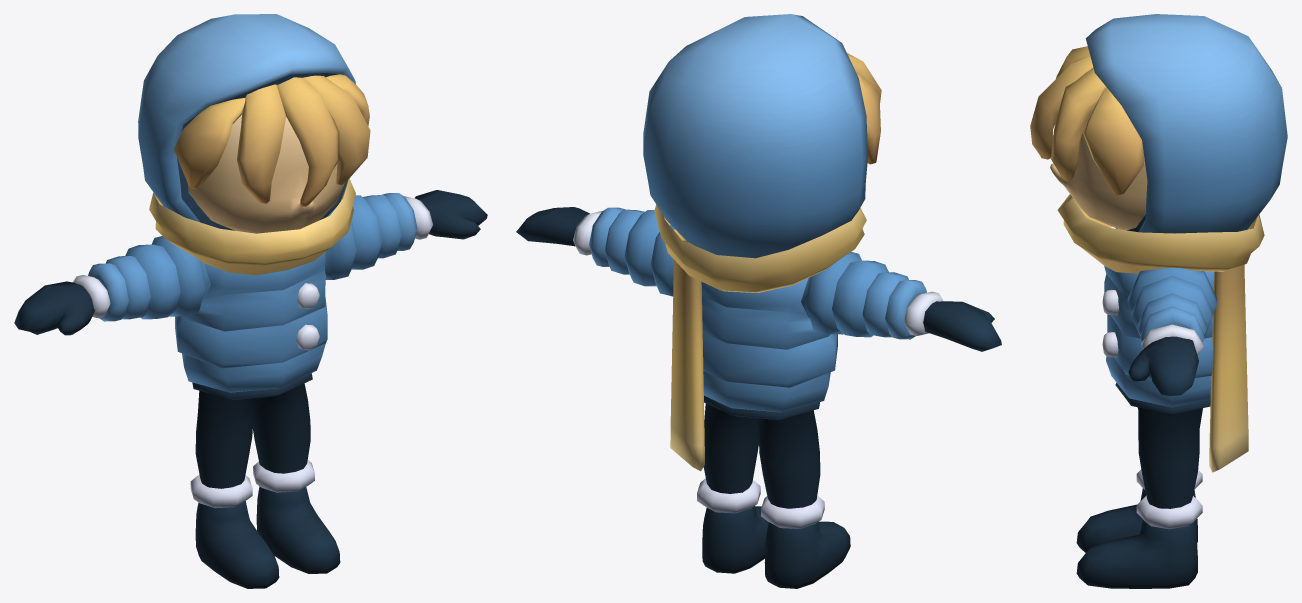
File: PlayerCharacterMesh.fbx
3 views of the same model, side by side, from view 1: azimuth 30°, elevation 25°; view 2: azimuth 150°, elevation 25°; view 3: azimuth 270°, elevation 25° (orthographic). The views are drawn at different scales.
Parts seen in each view (by area): view 1: Circle.004, hood.001, legs.001, legs, face, scarf, Plane.001, hands, hairStrand_01, Plane.002, Circle.002, Cube.001; view 2: hood.001, Circle.004, legs, legs.001, scarf, scarf.001, hands, Circle.002, Plane.002; view 3: hood.001, Circle.004, legs.001, scarf, scarf.001, legs, Plane.002, face, Plane.001, hands, hairStrand_01, Circle.002 (+1 smaller).
Part boxes in pixels (x1,y1,x2,y2): Circle.004: (73,193,432,399); hood.001: (138,14,355,230); legs.001: (195,486,340,588); legs: (195,383,310,488); face: (188,115,344,233); scarf: (149,178,355,275); Plane.001: (237,75,370,204); hands: (14,190,487,335); hairStrand_01: (277,77,339,206); Plane.002: (174,74,369,188); Circle.002: (190,460,314,508); Cube.001: (296,283,319,350); hood.001: (643,14,867,258); Circle.004: (573,207,943,419); legs: (703,403,820,508); legs.001: (702,506,850,588); scarf: (654,204,866,293); scarf.001: (670,240,704,471); hands: (516,207,1001,351); Circle.002: (697,478,824,528); Plane.002: (856,73,880,164); hood.001: (1085,14,1287,233); Circle.004: (1104,214,1216,414); legs.001: (1076,488,1197,588); scarf: (1057,194,1264,273); scarf.001: (1209,264,1248,472); legs: (1137,407,1202,508); Plane.002: (1083,87,1143,195); face: (1050,113,1147,230); Plane.001: (1051,46,1106,181); hands: (1128,336,1198,395); hairStrand_01: (1030,56,1093,159); Circle.002: (1136,469,1202,529).
Bounding box in the file's own units: 1.39 × 1.48 × 0.6429.
